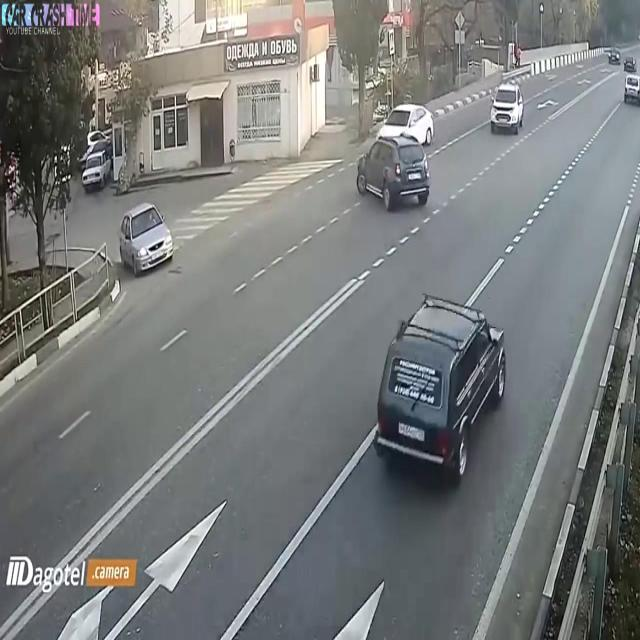accident: (350, 95, 442, 222)
